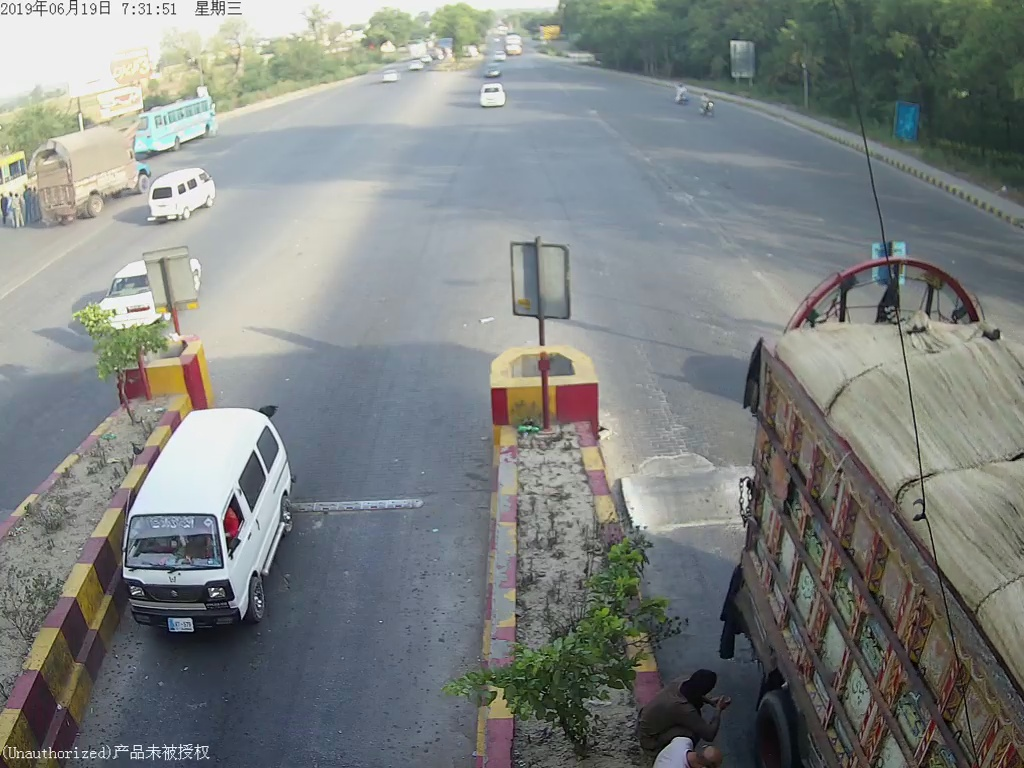Cat-1: (121, 408, 305, 639)
